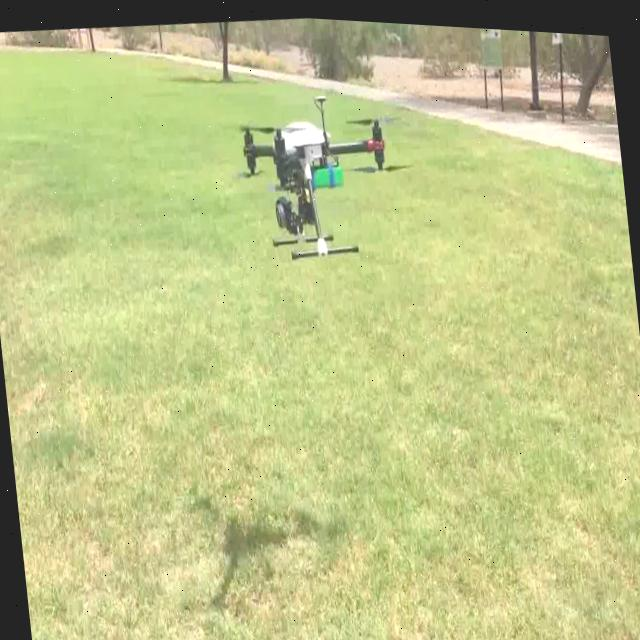drone: (182, 57, 428, 281)
